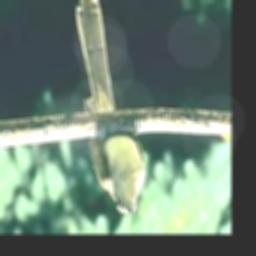Cuckoo: (76, 0, 147, 214)
